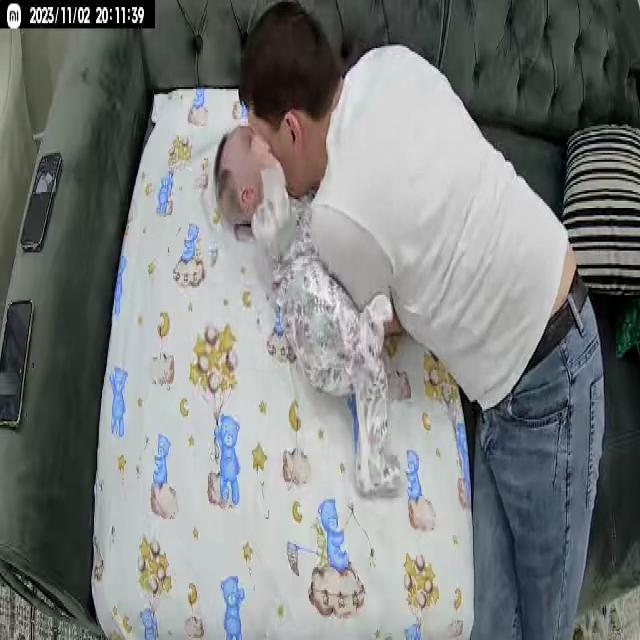baby: (213, 122, 406, 504)
